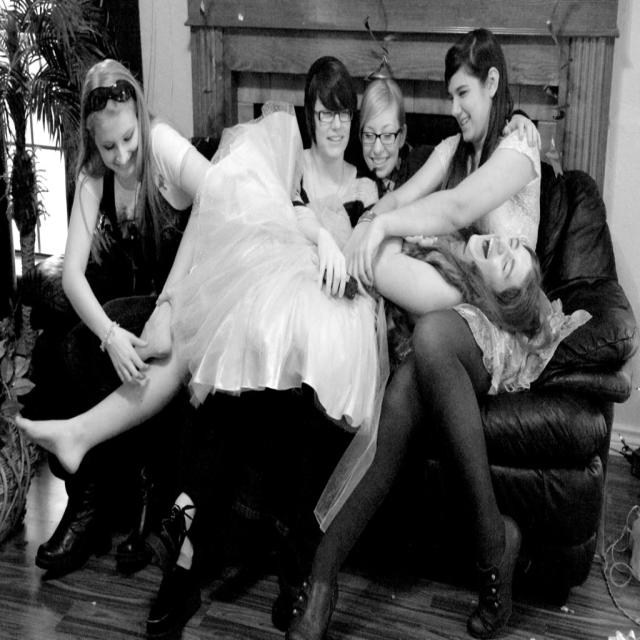body: (272, 23, 550, 639), (131, 53, 385, 640), (14, 200, 545, 480), (217, 57, 391, 636), (33, 57, 215, 572)
